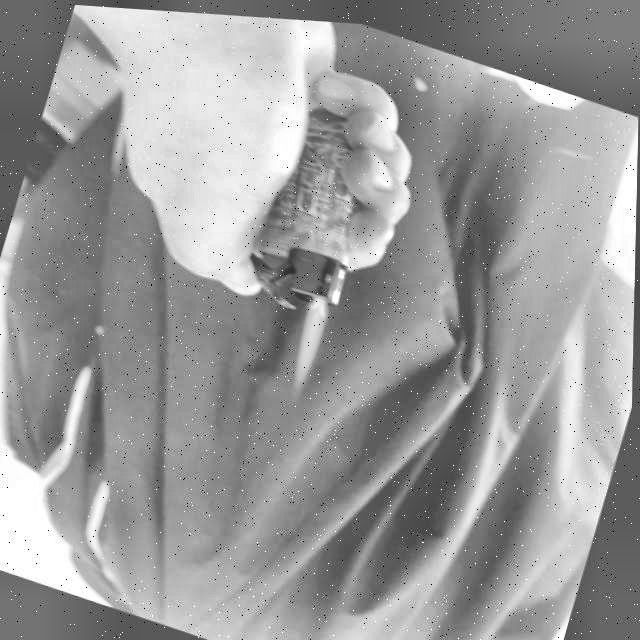Fire: (285, 290, 334, 386)
